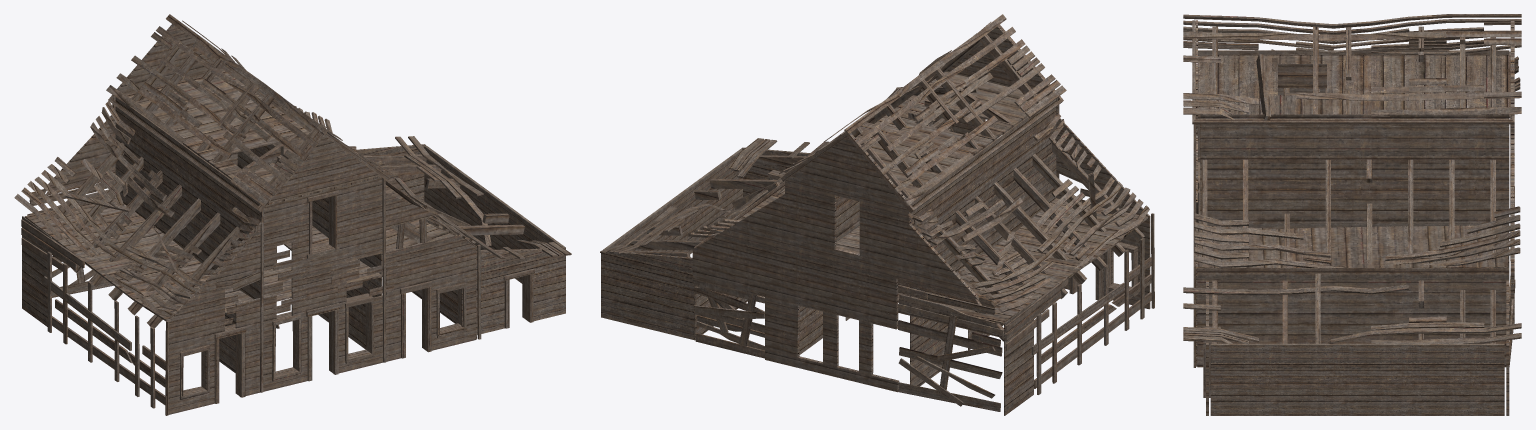
File: Barn_2.FBX
The picture shows the model from 3 angles, left to right: view 1: azimuth 30°, elevation 25°; view 2: azimuth 150°, elevation 25°; view 3: azimuth 270°, elevation 25°; orthographic projection. The views are drawn at different scales.
Parts seen in each view (by area): view 1: Barn_2; view 2: Barn_2; view 3: Barn_2.
Part boxes in pixels (left/top/right/bottom): Barn_2: left=14, top=14, right=571, bottom=415; Barn_2: left=600, top=14, right=1154, bottom=415; Barn_2: left=1183, top=14, right=1521, bottom=415.
Bounding box in the file's own units: 13332 × 7908 × 8906.
